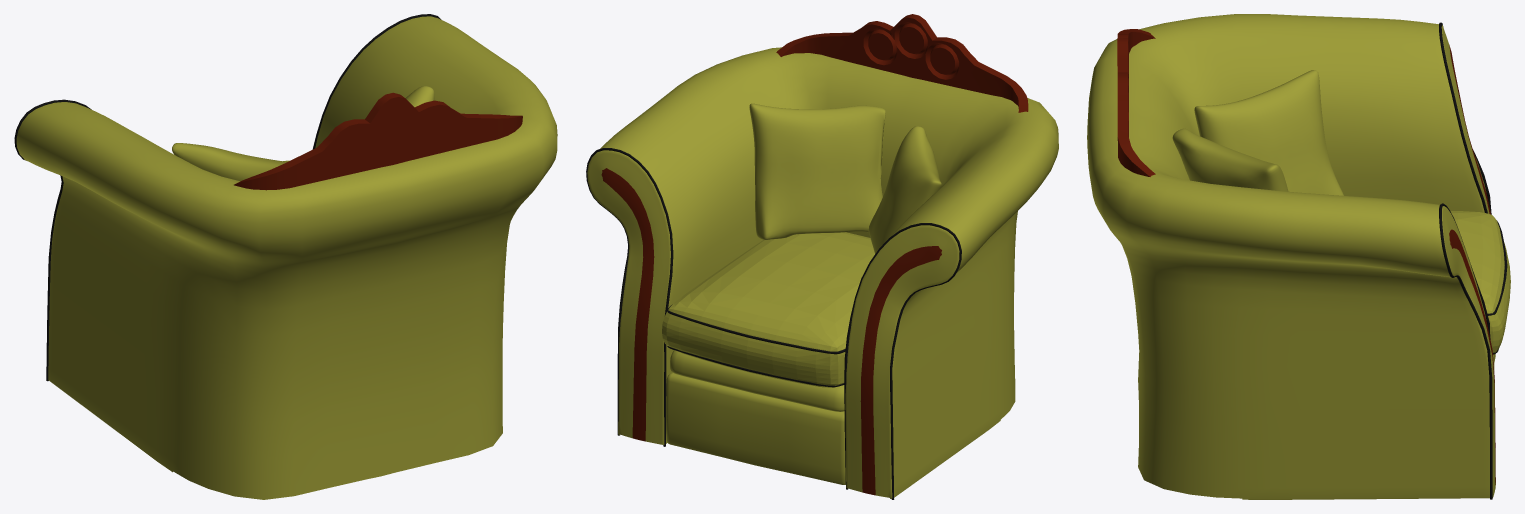
The model's file is o_env_chairA.FBX.
The picture shows the model from 3 angles, left to right: view 1: azimuth 30°, elevation 25°; view 2: azimuth 150°, elevation 25°; view 3: azimuth 270°, elevation 25°; orthographic projection. The views are drawn at different scales.
Visible parts, largest first — view 1: o_env_chairA; view 2: o_env_chairA; view 3: o_env_chairA.
Part boxes in pixels (x1=…): o_env_chairA: x1=14, y1=14, x2=557, y2=499; o_env_chairA: x1=586, y1=14, x2=1058, y2=499; o_env_chairA: x1=1087, y1=14, x2=1510, y2=499.
Size of the model in its own units: 143 by 122 by 121.
